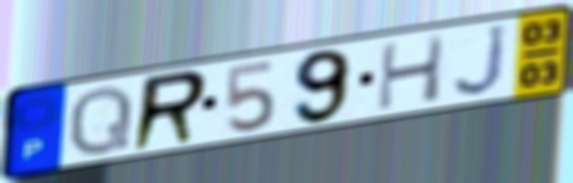5: (222, 56, 279, 136)
9: (290, 48, 357, 126)
H: (374, 31, 449, 113)
J: (450, 20, 510, 99)
Q: (64, 82, 136, 159)
R: (127, 67, 212, 156)
